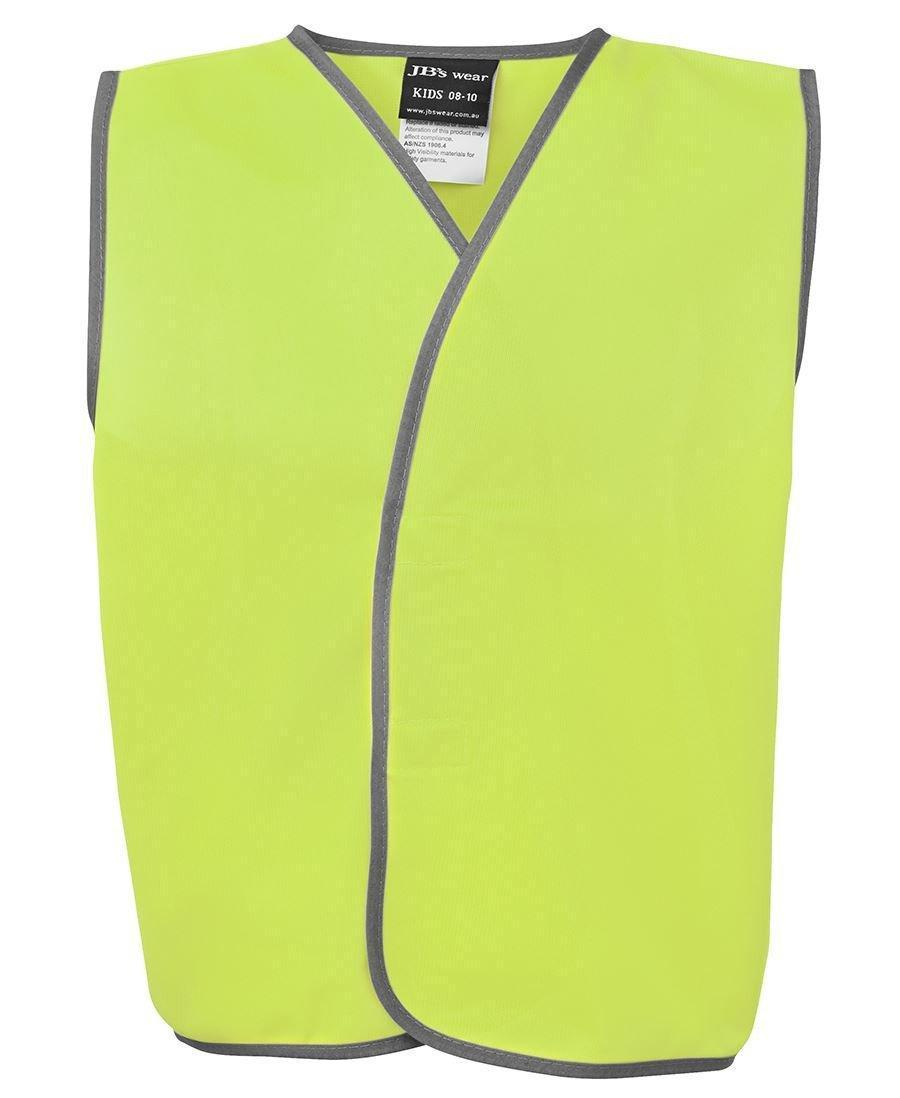vest: (87, 10, 821, 1082)
